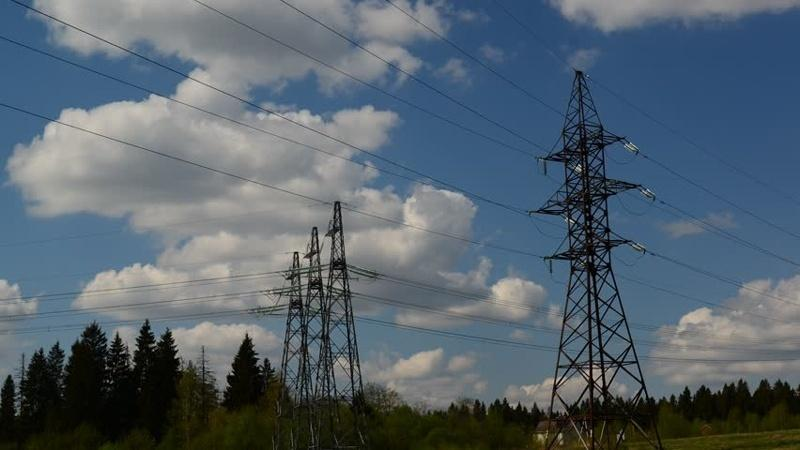power_tower: (527, 72, 683, 399), (282, 206, 361, 398)
